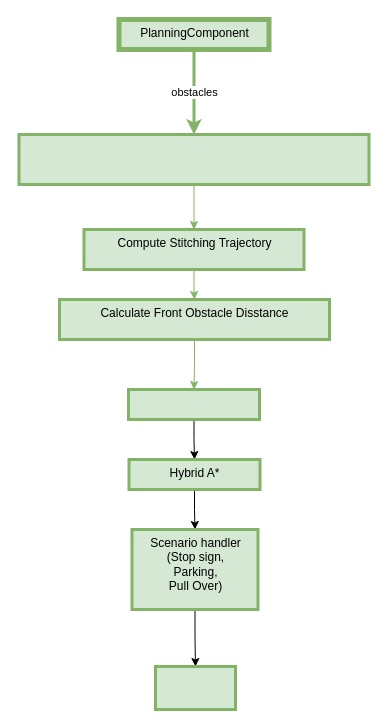
Some shapes in this 387 by 728 pixel diagram are drawn without their labels. The centre of each missing label's shape, as x and y in pixels:
Collision Check: pixel 193 404
Control: pixel 195 687
Update Vehicle State: pixel 193 159
